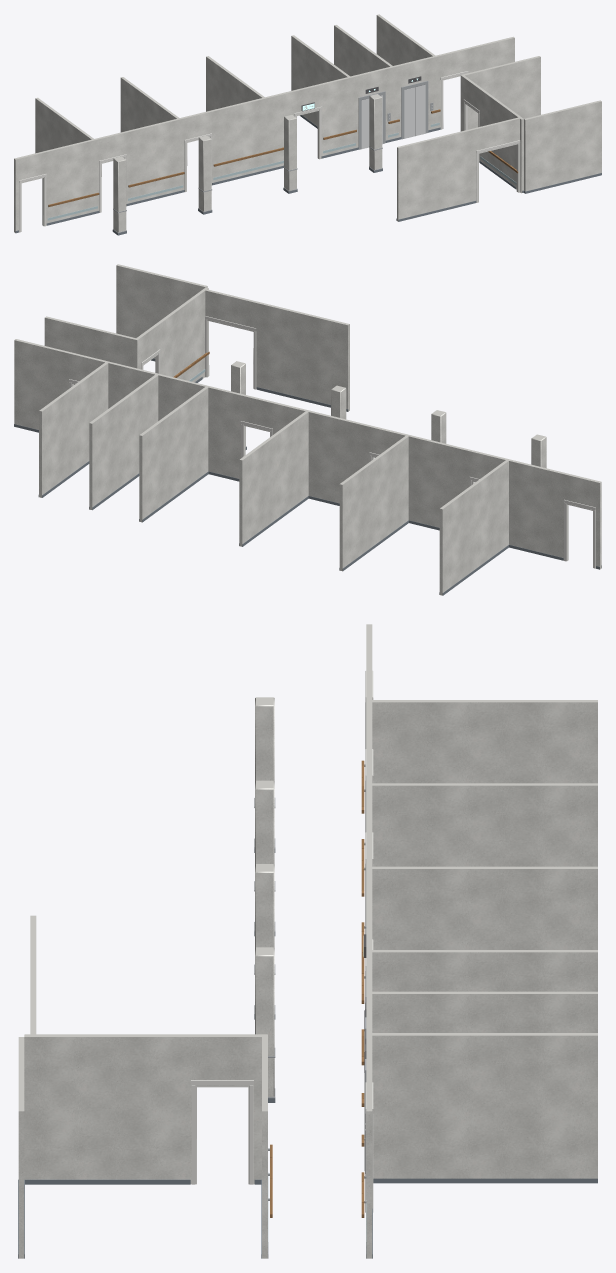
The model's file is walls_g.glb.
3 views of the same model, one above another, from view 1: azimuth 30°, elevation 25°; view 2: azimuth 150°, elevation 25°; view 3: azimuth 270°, elevation 25° (orthographic). The views are drawn at different scales.
Parts seen in each view (by area): view 1: walls_g_plaster, walls_g_frame, walls_g_vinyl, walls_g_chrome, walls_g_steel, walls_g_wood, walls_g_vinyl_b; view 2: walls_g_plaster, walls_g_vinyl, walls_g_frame; view 3: walls_g_plaster, walls_g_frame, walls_g_vinyl, walls_g_wood.
Part boxes in pixels (left/top/right/bottom): walls_g_plaster: left=14, top=14, right=601, bottom=232; walls_g_frame: left=19, top=71, right=520, bottom=232; walls_g_vinyl: left=15, top=115, right=601, bottom=235; walls_g_chrome: left=361, top=84, right=432, bottom=148; walls_g_steel: left=113, top=81, right=511, bottom=233; walls_g_wood: left=48, top=109, right=518, bottom=206; walls_g_vinyl_b: left=47, top=123, right=516, bottom=220; walls_g_plaster: left=14, top=264, right=601, bottom=595; walls_g_vinyl: left=14, top=358, right=601, bottom=595; walls_g_frame: left=69, top=316, right=595, bottom=568; walls_g_plaster: left=18, top=624, right=597, bottom=1258; walls_g_frame: left=191, top=670, right=373, bottom=1212; walls_g_vinyl: left=18, top=848, right=597, bottom=1258; walls_g_wood: left=270, top=760, right=364, bottom=1217.
Size of the model in its own units: 23.4 by 3.3 by 11.77.
10 materials, 2 textured.
